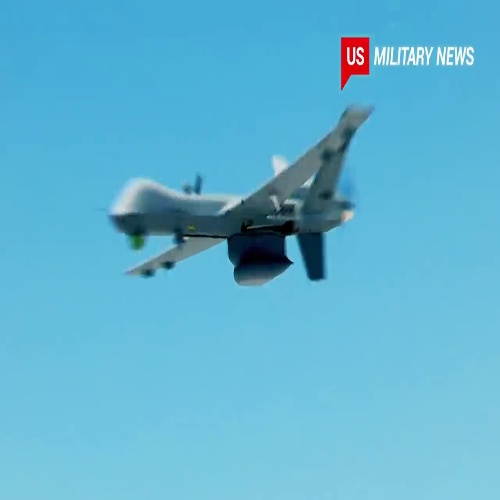uav217: (104, 97, 379, 293)
